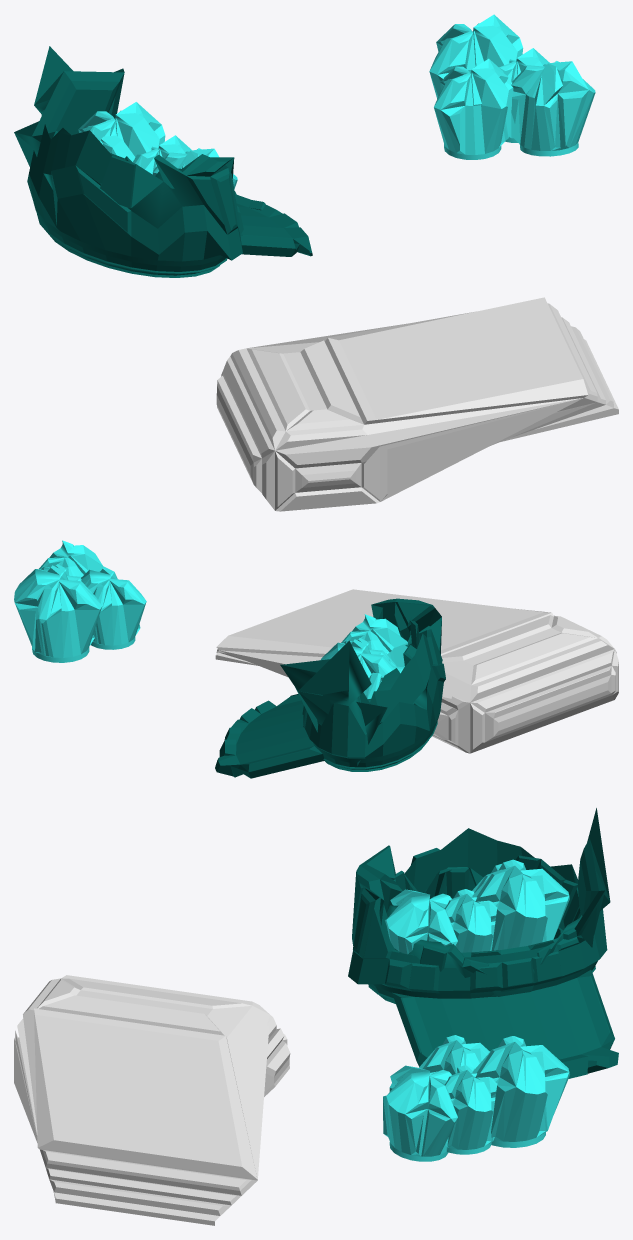
File: crystals for corner.FBX
3 views of the same model, one above another, from view 1: azimuth 30°, elevation 25°; view 2: azimuth 150°, elevation 25°; view 3: azimuth 270°, elevation 25° (orthographic). The views are drawn at different scales.
Visible parts, largest first — view 1: Box001, Torus001, Cylinder005, Cylinder004, Cylinder003; view 2: Box001, Torus001, Cylinder005, Cylinder002, Cylinder004; view 3: Box001, Torus001, Cylinder005, Cylinder004, Cylinder002, Cylinder003.
Part boxes in pixels (x1,y1,x2,y2): Box001: [216, 297, 618, 511]; Torus001: [14, 46, 312, 277]; Cylinder005: [429, 14, 595, 159]; Cylinder004: [78, 102, 165, 156]; Cylinder003: [133, 135, 191, 174]; Box001: [215, 589, 618, 753]; Torus001: [215, 598, 445, 778]; Cylinder005: [14, 540, 146, 662]; Cylinder002: [341, 614, 407, 667]; Cylinder004: [320, 639, 393, 695]; Box001: [14, 975, 290, 1225]; Torus001: [348, 808, 618, 1078]; Cylinder005: [383, 1035, 569, 1161]; Cylinder004: [472, 859, 569, 950]; Cylinder002: [385, 889, 457, 954]; Cylinder003: [444, 889, 497, 952].
Size of the model in its own units: 103 by 49.8 by 105.
